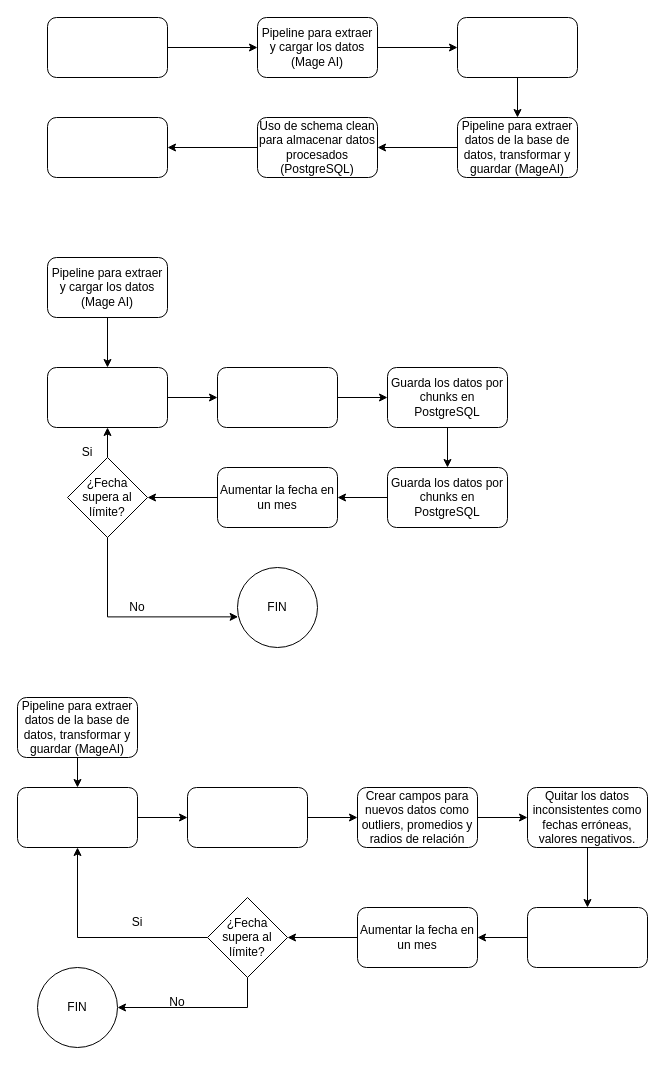
The diagram is 665 pixels wide and 1065 high, and some of its shapes have lost their labels. Each missing label, with the centre of its shape:
Fuente de datos: API Link: pixel 107 47
Guardar los datos en el esquema clean: pixel 587 937
PgAdmin para visualizar datos en raw y clean: pixel 107 147
Quitar columnas con mas del 50% de nulos: pixel 247 817
Renombra columnas para mantener consistencia: pixel 277 397
Usa el mes y año, extrae los datos desde PostgreSQL: pixel 77 817
Usa el mes y año, reemplaza en el link y extrae los datos online: pixel 107 397
Uso de schema raw para almacenar datos (PostgreSQL): pixel 517 47
